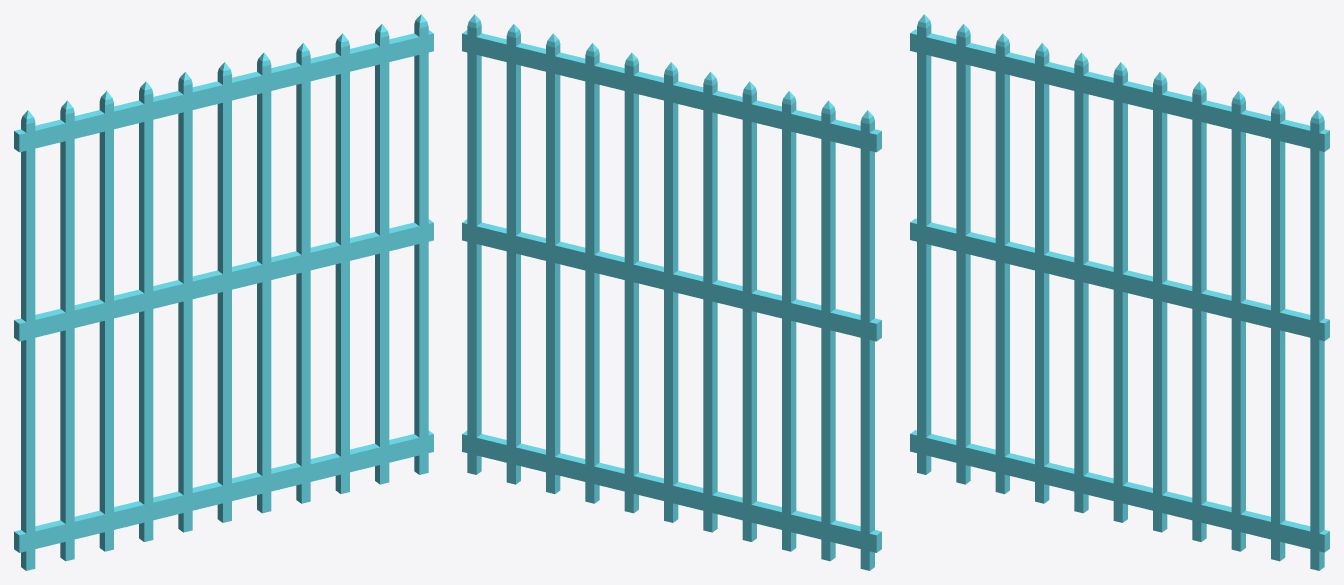
The model's file is gate.fbx.
3 views of the same model, side by side, from view 1: azimuth 30°, elevation 25°; view 2: azimuth 150°, elevation 25°; view 3: azimuth 330°, elevation 25° (orthographic).
Visible parts, largest first — view 1: Cube.013; view 2: Cube.013; view 3: Cube.013.
Boxes of the visible parts, <box> form: Cube.013: <box>14,14,433,570</box>; Cube.013: <box>462,14,881,570</box>; Cube.013: <box>910,14,1329,570</box>.
Size of the model in its own units: 527 by 557 by 11.61.
